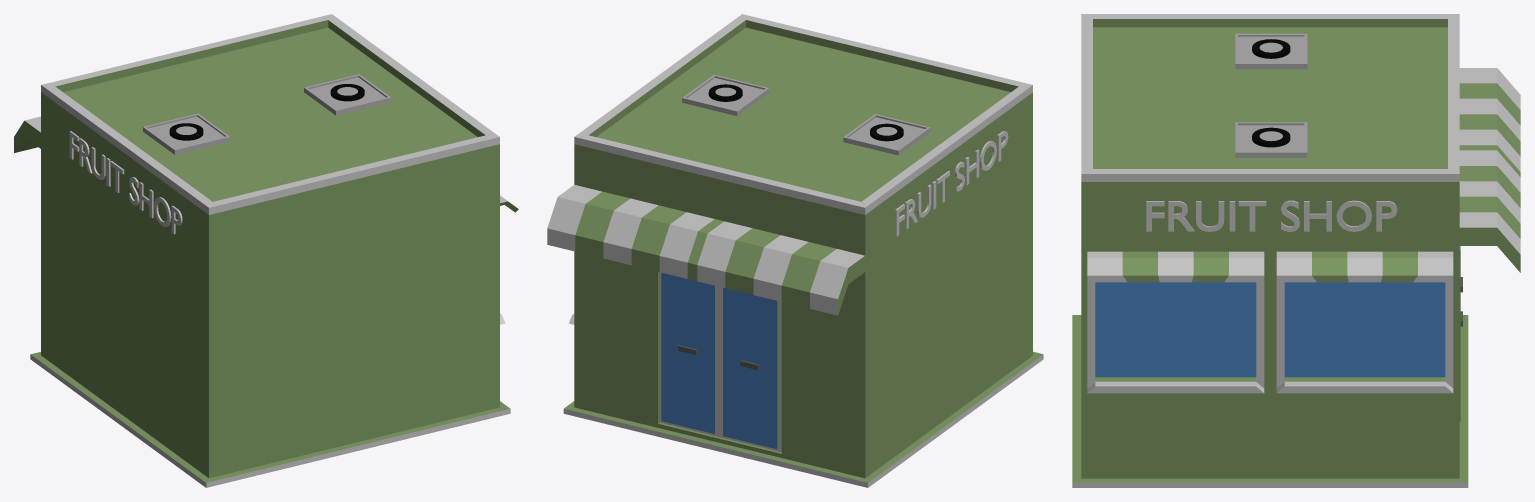
File: fruit_shop.glb
3 views of the same model, side by side, from view 1: azimuth 30°, elevation 25°; view 2: azimuth 150°, elevation 25°; view 3: azimuth 270°, elevation 25° (orthographic). The views are drawn at different scales.
Visible parts, largest first — view 1: FRUIT SHOP.001_Material.020_0; view 2: FRUIT SHOP.001_Material.020_0; view 3: FRUIT SHOP.001_Material.020_0.
Part boxes in pixels (x1,y1,x2,y2): FRUIT SHOP.001_Material.020_0: [14, 14, 518, 487]; FRUIT SHOP.001_Material.020_0: [547, 14, 1043, 487]; FRUIT SHOP.001_Material.020_0: [1072, 14, 1520, 487].
Size of the model in its own units: 1.6 by 1.33 by 1.73.
Materials: 1 (1 with a texture image).
